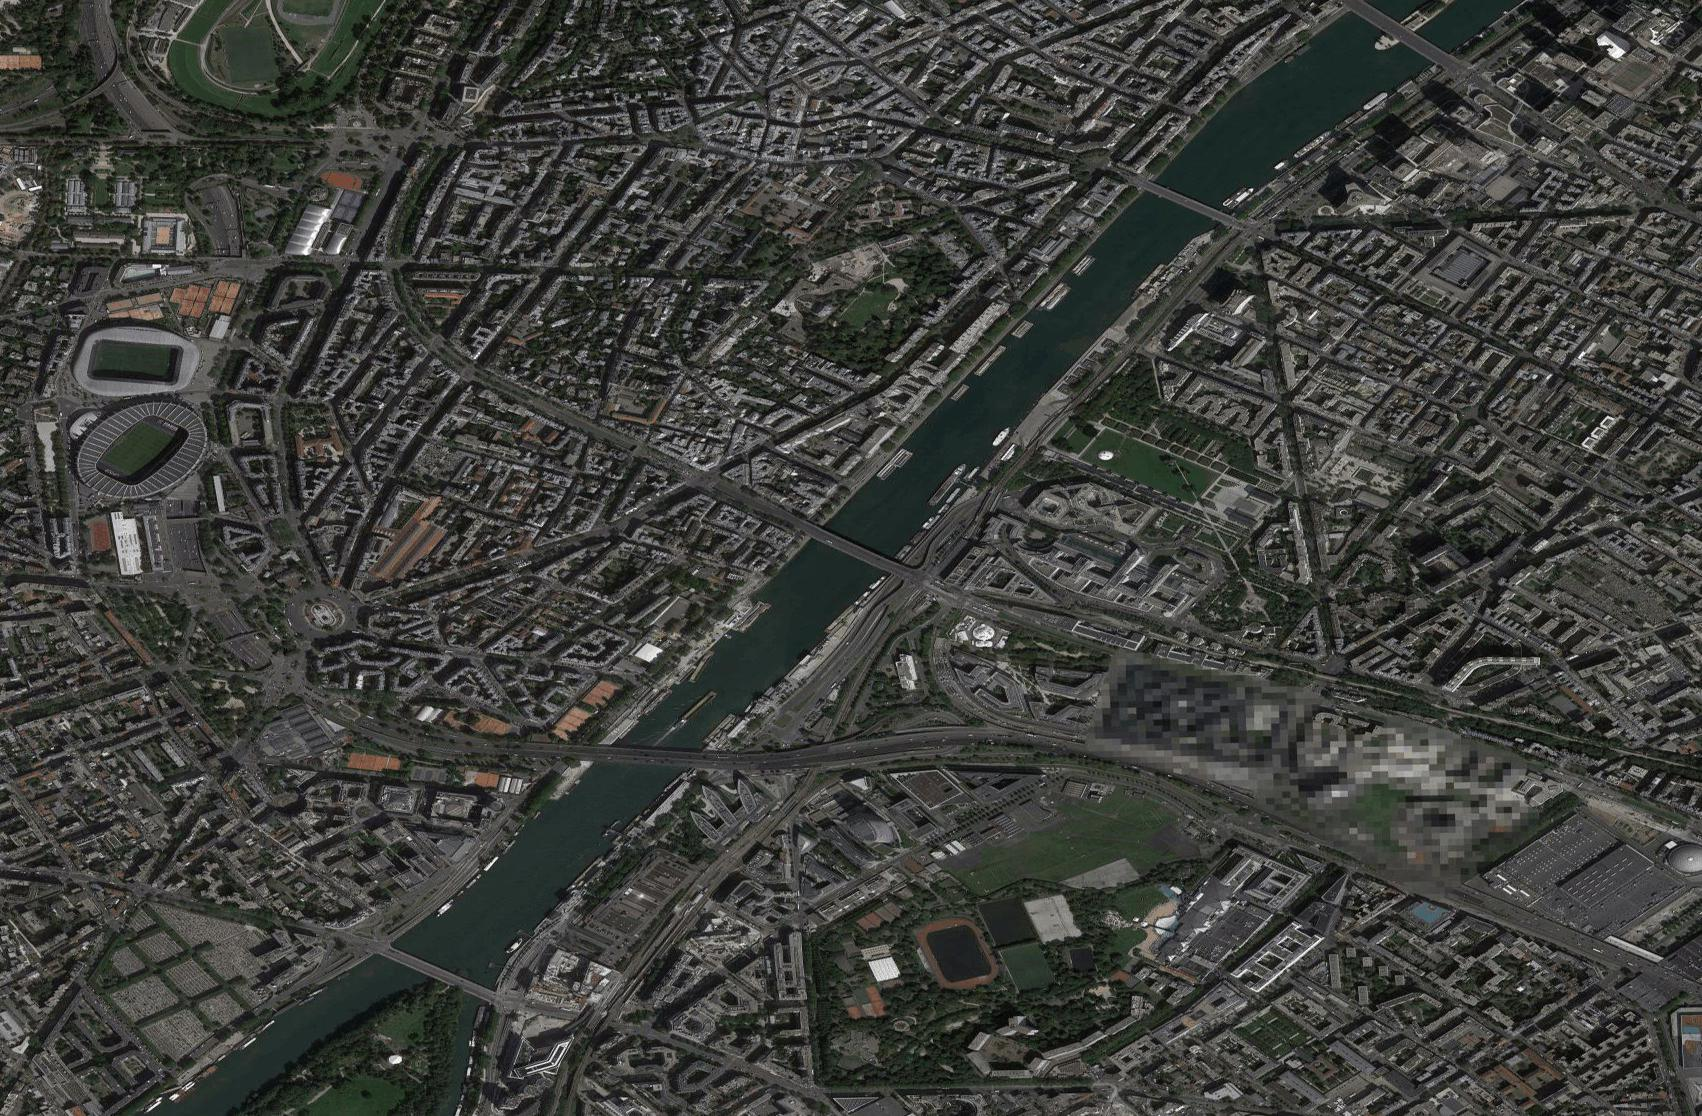bridge: (580, 722, 708, 781), (372, 945, 501, 1003), (1343, 1, 1449, 64), (803, 519, 910, 575), (1144, 169, 1234, 228)
